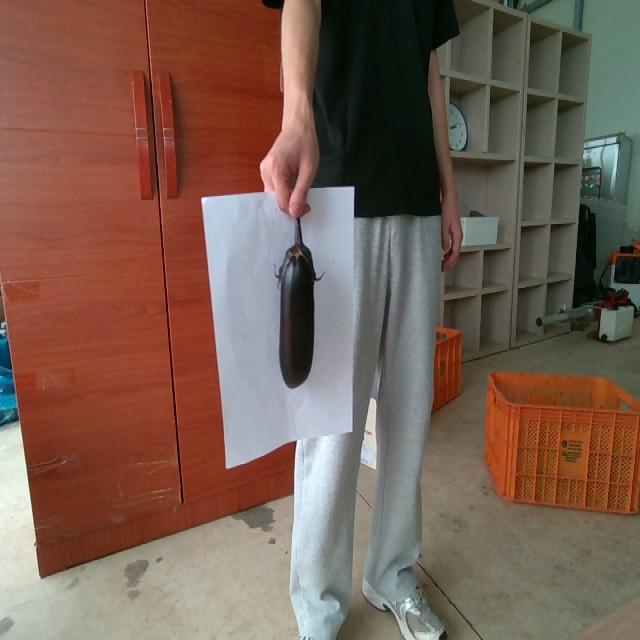Egg plant: (275, 219, 320, 387)
